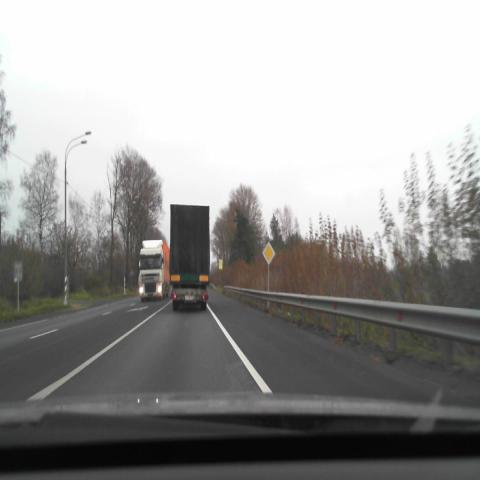2_1: (262, 241, 275, 263)
